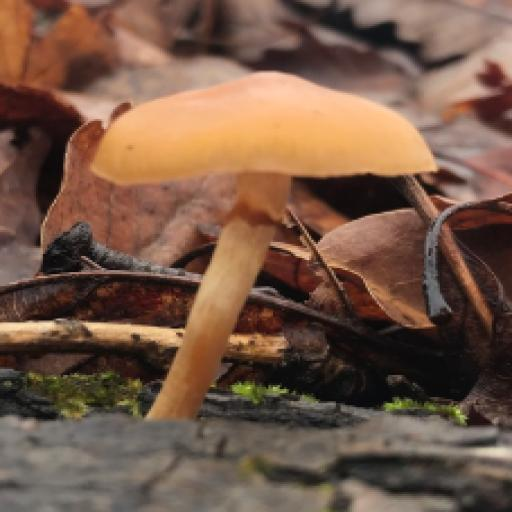mushroom: (4, 0, 443, 412)
